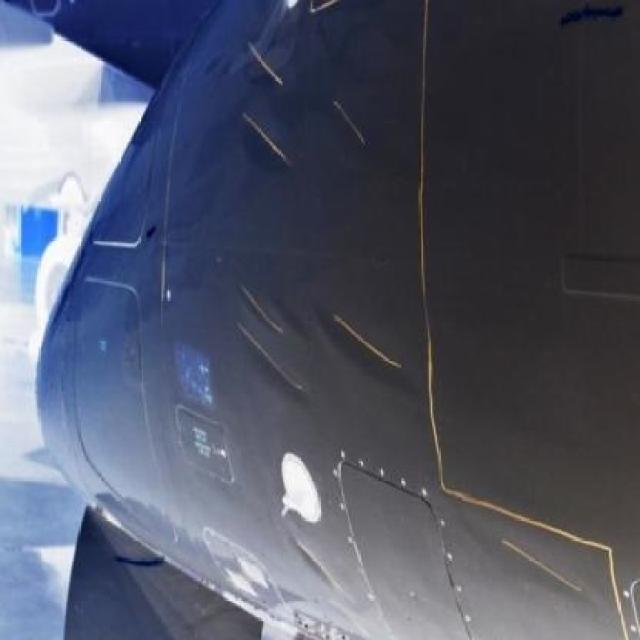dent: (318, 299, 398, 375), (241, 324, 306, 393), (509, 541, 580, 584), (246, 113, 297, 167), (300, 538, 346, 597), (243, 279, 282, 332), (247, 39, 283, 81), (333, 103, 361, 142)
